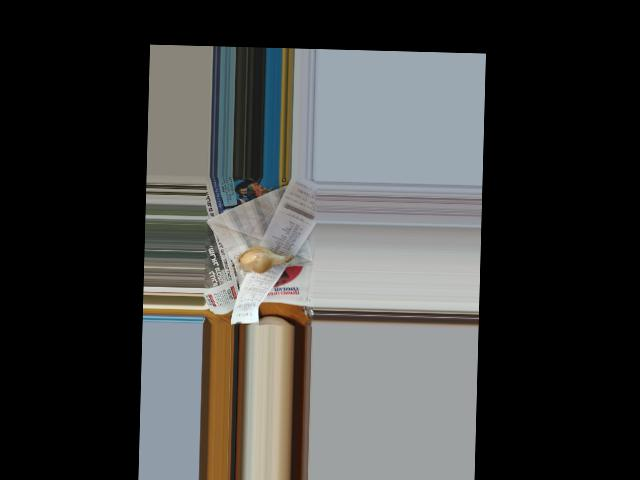onion: (237, 245, 288, 274)
